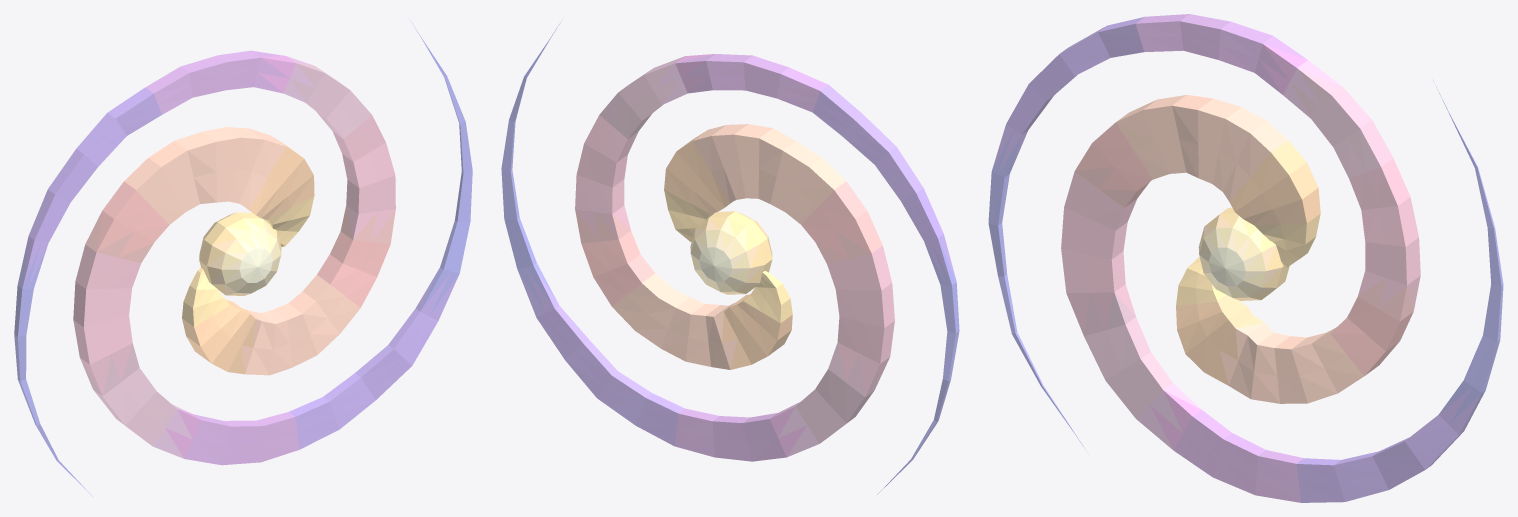
Rendered from galaxy-012.glb.
3 renders of one model, left to right at view 1: azimuth 30°, elevation 25°; view 2: azimuth 150°, elevation 25°; view 3: azimuth 330°, elevation 25°, orthographic. The views are drawn at different scales.
Visible parts, largest first — view 1: galaxy-012; view 2: galaxy-012; view 3: galaxy-012.
Part boxes in pixels (x1=…): galaxy-012: x1=14, y1=22, x2=472, y2=496; galaxy-012: x1=501, y1=22, x2=959, y2=494; galaxy-012: x1=988, y1=14, x2=1503, y2=502.
Size of the model in its own units: 163 by 142 by 21.66.
